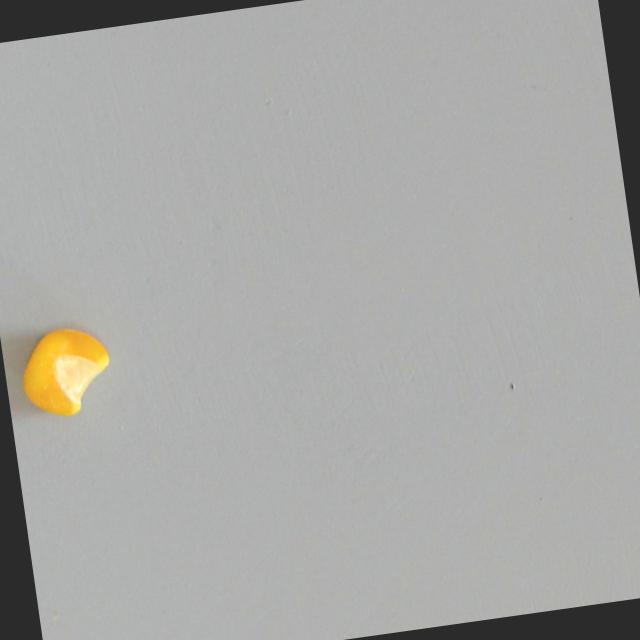no_desgerminado: (4, 315, 126, 428)
